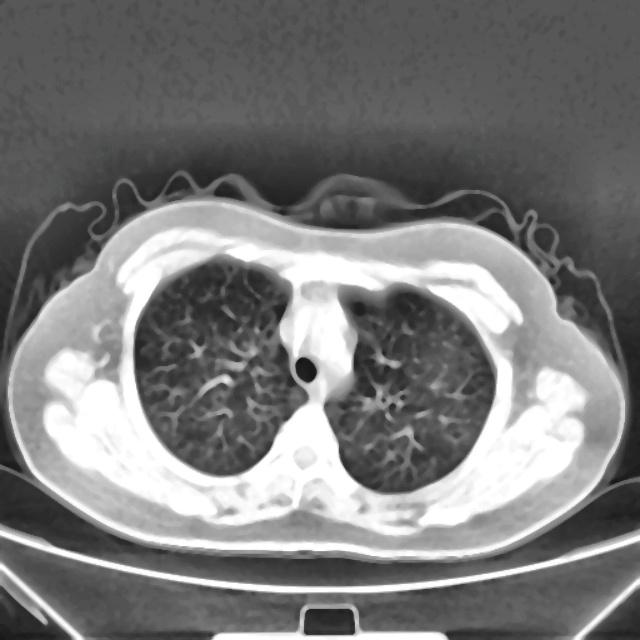covid: (5, 183, 628, 563)
